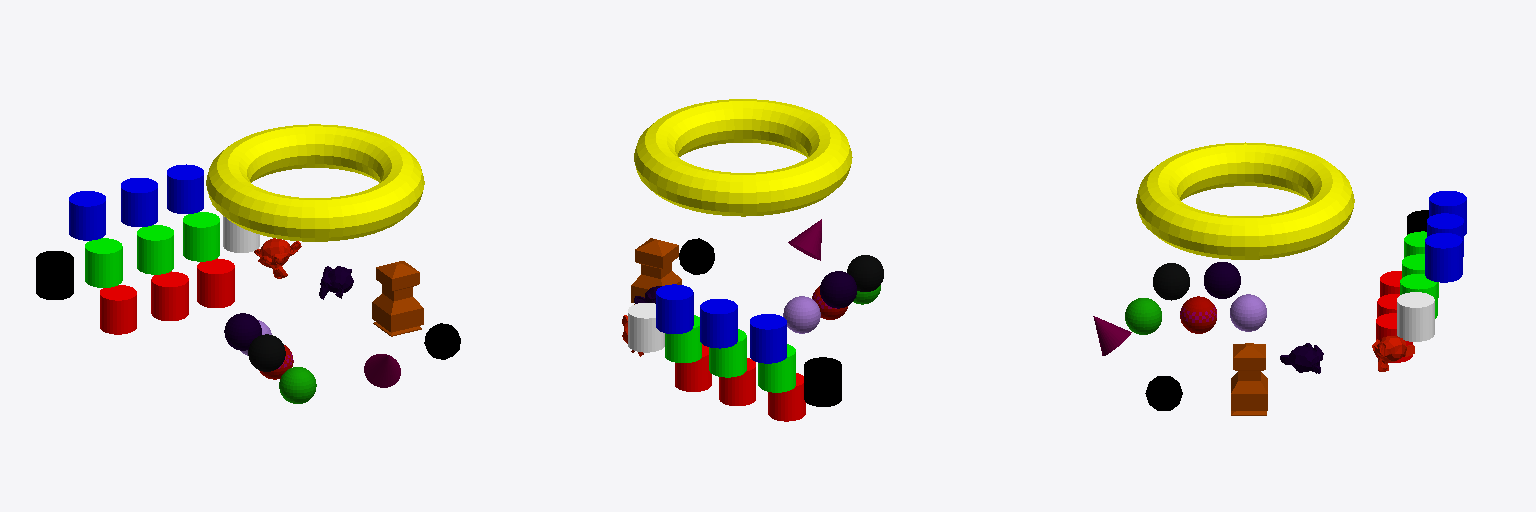
The model's file is manyObjs.obj.
The picture shows the model from 3 angles: view 1: azimuth 30°, elevation 25°; view 2: azimuth 150°, elevation 25°; view 3: azimuth 270°, elevation 25°; orthographic projection.
Parts seen in each view (by area): view 1: Torus, Cube_Cube.001, Cylinder.010, Cylinder.003, Cylinder, Cylinder.001, Cylinder.008, Cylinder.006, Cylinder.007, Cylinder.005, Cylinder.004, Cylinder.002 (+8 smaller); view 2: Torus, Cube_Cube.001, Cylinder.010, Cylinder.006, Cylinder.007, Cylinder.008, Cylinder.009, Cylinder.004, Cylinder.003, Cylinder.001, Cylinder.002, Cylinder.005 (+6 smaller); view 3: Torus, Cube_Cube.001, Cylinder.009, Cylinder.006, Sphere.001, Sphere.003, Sphere.004, Sphere.002, Sphere, Icosphere, Cylinder.008, Suzanne (+5 smaller).
Boxes of the visible parts, box(x1,y1,x2,y2) form: Torus: box(206, 124, 424, 241); Cube_Cube.001: box(372, 261, 423, 336); Cylinder.010: box(36, 251, 73, 299); Cylinder.003: box(85, 238, 122, 287); Cylinder: box(197, 258, 234, 307); Cylinder.001: box(151, 271, 188, 320); Cylinder.008: box(69, 191, 105, 240); Cylinder.006: box(167, 164, 203, 213); Cylinder.007: box(121, 178, 157, 226); Cylinder.005: box(183, 212, 219, 261); Cylinder.004: box(137, 225, 173, 274); Cylinder.002: box(100, 285, 136, 334); Torus: box(634, 99, 852, 216); Cube_Cube.001: box(631, 238, 681, 304); Cylinder.010: box(804, 357, 841, 406); Cylinder.006: box(656, 284, 693, 333); Cylinder.007: box(700, 299, 737, 348); Cylinder.008: box(750, 314, 786, 363); Cylinder.009: box(628, 303, 664, 352); Cylinder.004: box(709, 329, 746, 377); Cylinder.003: box(758, 344, 795, 392); Cylinder.001: box(719, 358, 755, 405); Cylinder.002: box(768, 373, 805, 421); Cylinder.005: box(665, 315, 701, 362); Torus: box(1136, 142, 1354, 259); Cube_Cube.001: box(1231, 343, 1267, 415); Cylinder.009: box(1397, 292, 1434, 341); Cylinder.006: box(1425, 233, 1462, 282); Sphere.001: box(1230, 294, 1266, 331); Sphere.003: box(1153, 263, 1189, 300); Sphere.004: box(1204, 262, 1240, 298); Sphere.002: box(1125, 298, 1161, 334); Sphere: box(1180, 296, 1216, 333); Icosphere: box(1145, 376, 1182, 410); Cylinder.008: box(1429, 191, 1466, 235); Suzanne: box(1372, 336, 1414, 371).
Bounding box in the file's own units: 17.73 × 11.17 × 19.88.